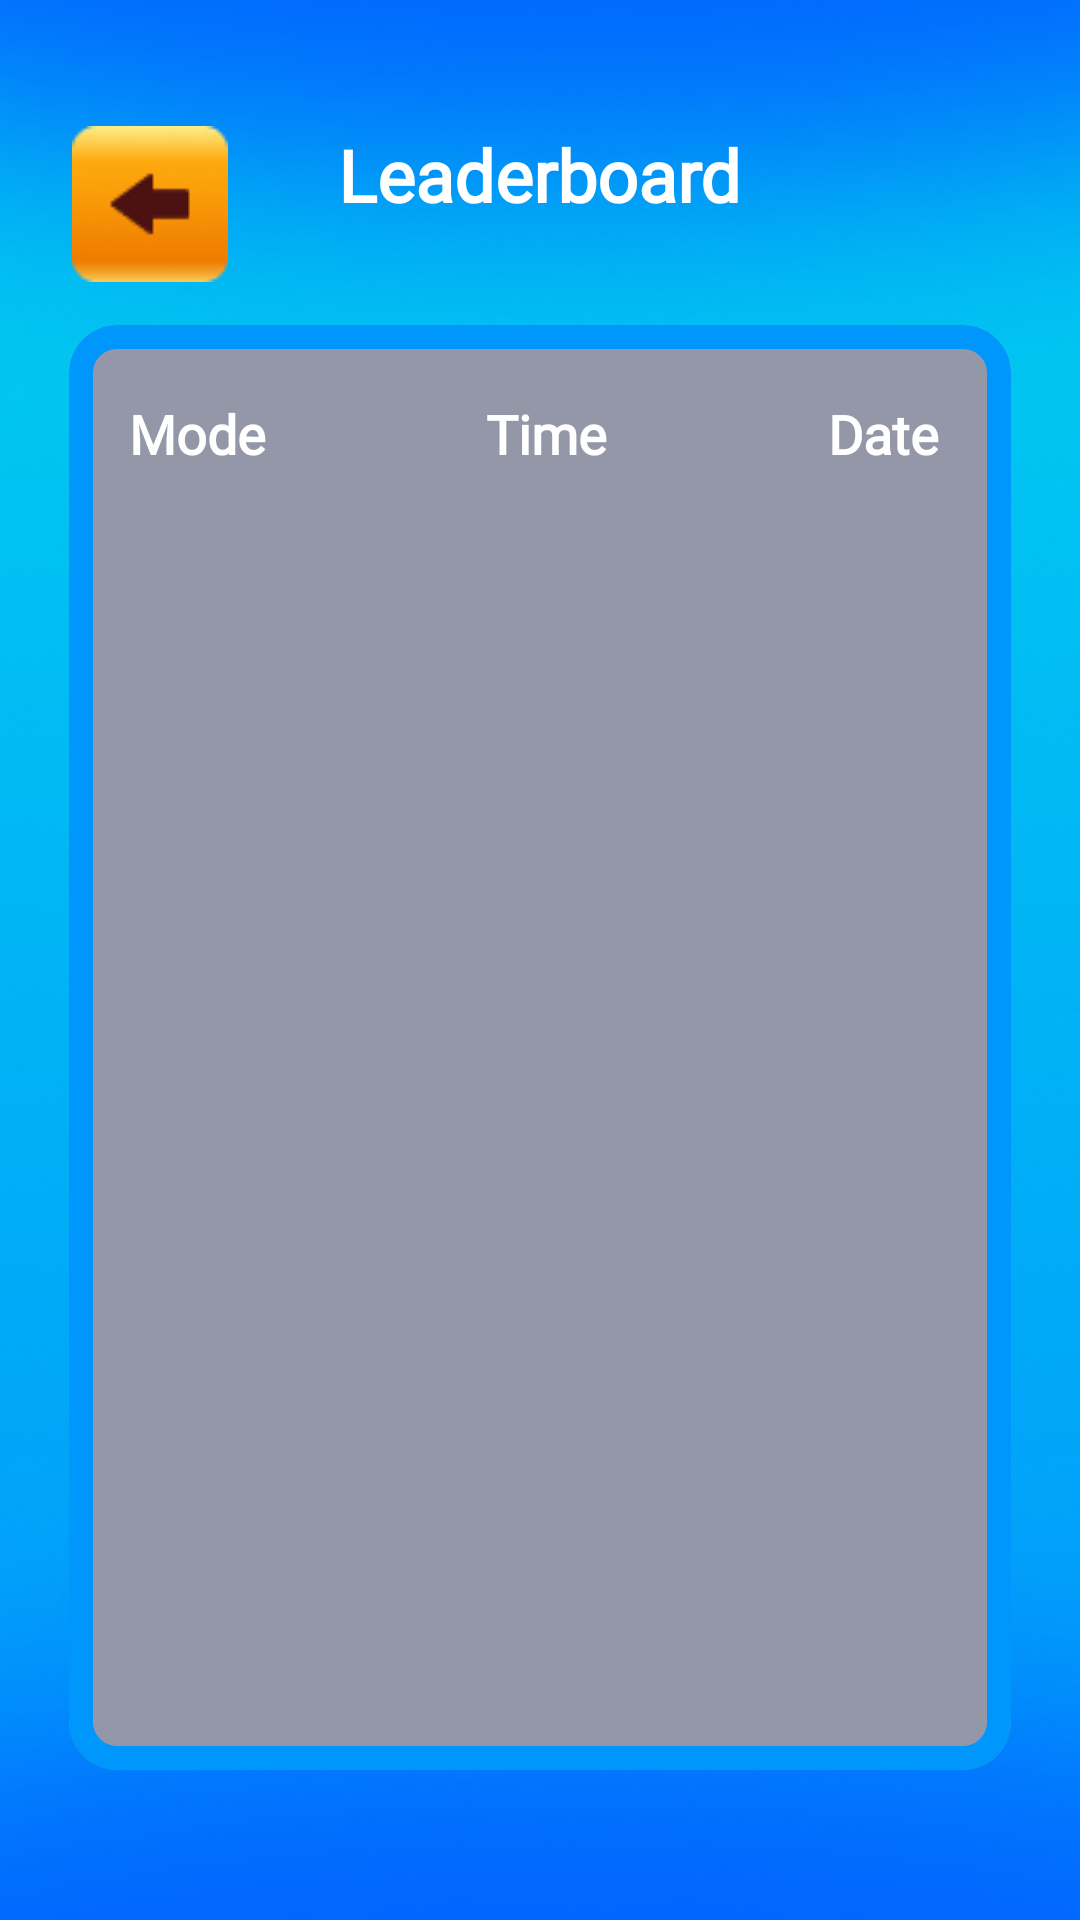

Named icons in this screenshot (1080*1920) and their centers, (x=x, y=y):
back button: (x=150, y=204)
